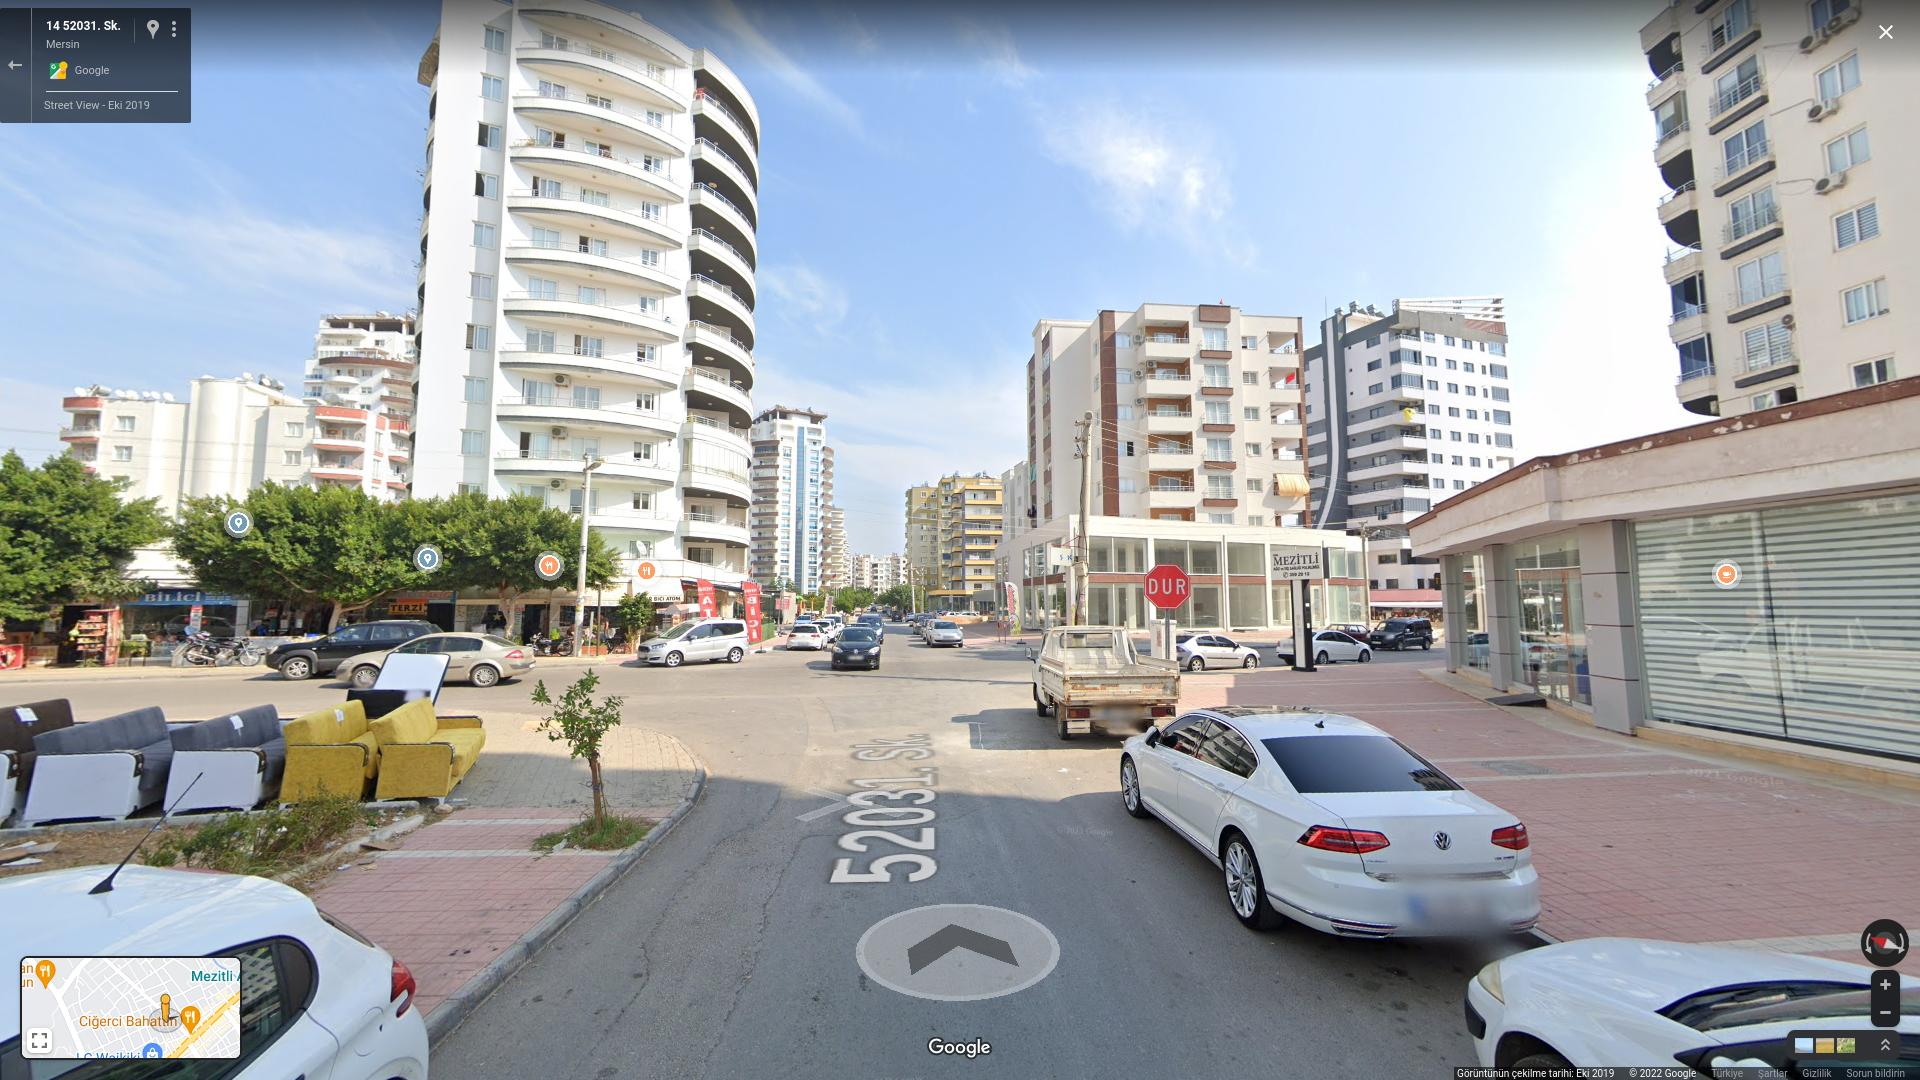stop: (1142, 563, 1191, 611)
